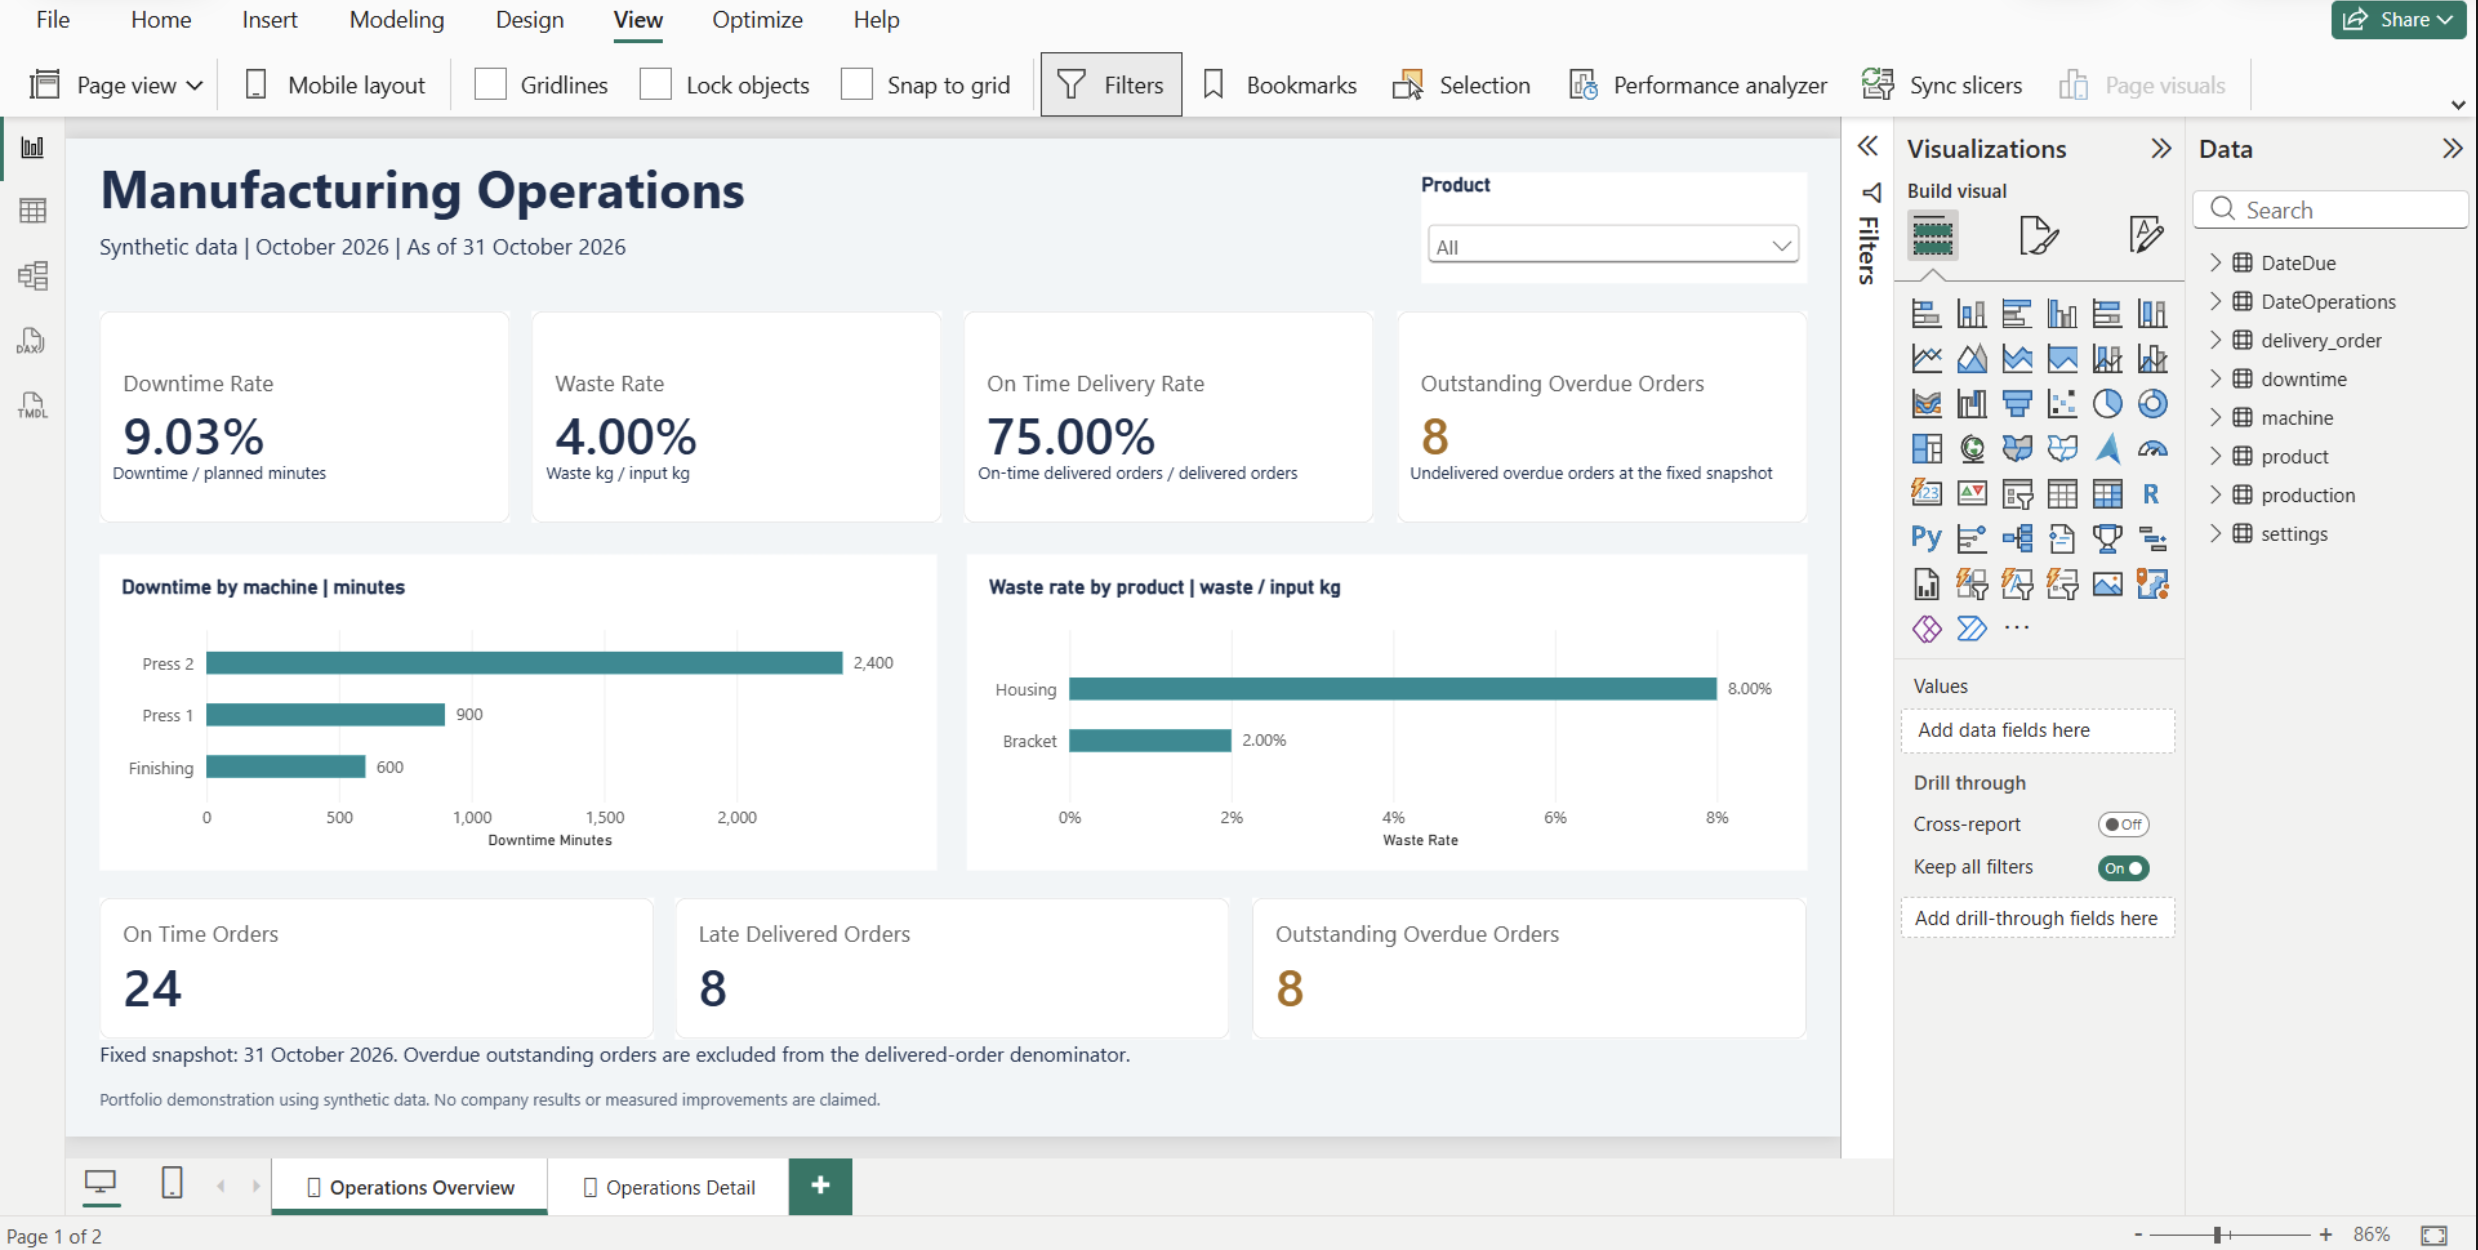

The page's visual inventory and layout, read from the dashboard file:
{"tool":"powerbi","page":{"name":"Operations Overview","canvas":[1280,720],"ordinal":0},"visuals":[{"type":"textbox","box":[24,10,900,60],"z":1},{"type":"textbox","box":[24,66,940,40],"z":2},{"type":"slicer","title":"Product","fields":{"Values":["product.product_name"]},"box":[978,24,278,80],"z":3},{"type":"cardVisual","fields":{"Data":["production.Downtime Rate"]},"box":[24,124,296,153],"z":4},{"type":"textbox","box":[34,230,276,44],"z":5},{"type":"cardVisual","fields":{"Data":["production.Waste Rate"]},"box":[336,124,296,153],"z":6},{"type":"textbox","box":[346,230,276,44],"z":7},{"type":"cardVisual","fields":{"Data":["production.On Time Delivery Rate"]},"box":[648,124,296,153],"z":8},{"type":"textbox","box":[658,230,276,44],"z":9},{"type":"cardVisual","fields":{"Data":["production.Outstanding Overdue Orders"]},"box":[960,124,296,153],"z":10},{"type":"textbox","box":[970,230,276,44],"z":11},{"type":"barChart","title":"Downtime by machine | minutes","fields":{"Category":["machine.machine_name"],"Y":["production.Downtime Minutes"]},"box":[24,300,604,228],"z":12},{"type":"barChart","title":"Waste rate by product | waste / input kg","fields":{"Category":["product.product_name"],"Y":["production.Waste Rate"]},"box":[650,300,606,228],"z":13},{"type":"cardVisual","fields":{"Data":["production.On Time Orders"]},"box":[24,548,400,102],"z":14},{"type":"cardVisual","fields":{"Data":["production.Late Delivered Orders"]},"box":[440,548,400,102],"z":15},{"type":"cardVisual","fields":{"Data":["production.Outstanding Overdue Orders"]},"box":[856,548,400,102],"z":16},{"type":"textbox","box":[24,650,1232,40],"z":17},{"type":"textbox","box":[24,682,1232,38],"z":18}]}

Visuals, with their boxes on the page's 1280x720 design canvas (x1, y1, x2, y2). These are canvas units, not pixel positions in the 2478x1250 screenshot, which may show the page scaled, cropped or inside an application window:
textbox: 24/10/924/70
textbox: 24/66/964/106
"Product" slicer: 978/24/1256/104
cardVisual - production.Downtime Rate: 24/124/320/277
textbox: 34/230/310/274
cardVisual - production.Waste Rate: 336/124/632/277
textbox: 346/230/622/274
cardVisual - production.On Time Delivery Rate: 648/124/944/277
textbox: 658/230/934/274
cardVisual - production.Outstanding Overdue Orders: 960/124/1256/277
textbox: 970/230/1246/274
"Downtime by machine | minutes" barChart: 24/300/628/528
"Waste rate by product | waste / input kg" barChart: 650/300/1256/528
cardVisual - production.On Time Orders: 24/548/424/650
cardVisual - production.Late Delivered Orders: 440/548/840/650
cardVisual - production.Outstanding Overdue Orders: 856/548/1256/650
textbox: 24/650/1256/690
textbox: 24/682/1256/720
